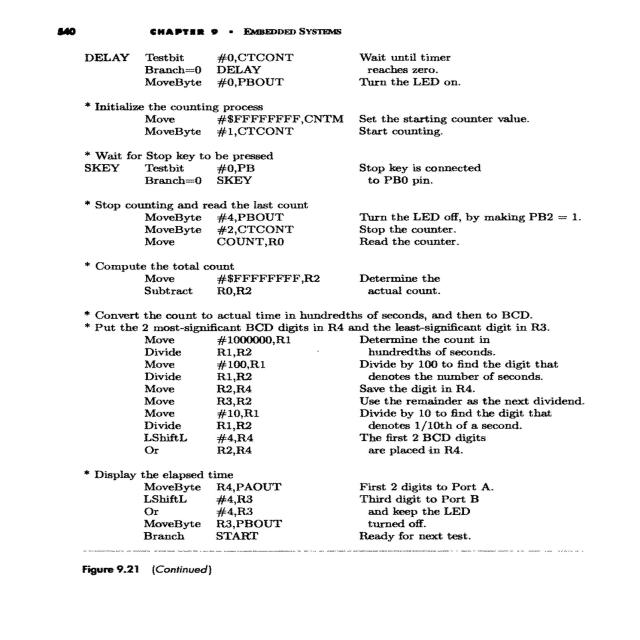diagram: (56, 39, 604, 602)
